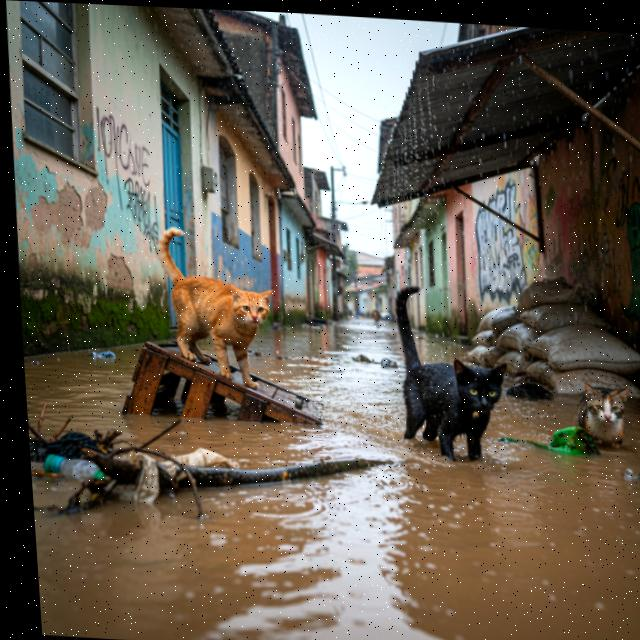cat: (383, 279, 519, 469), (146, 217, 282, 386), (572, 377, 634, 458)
